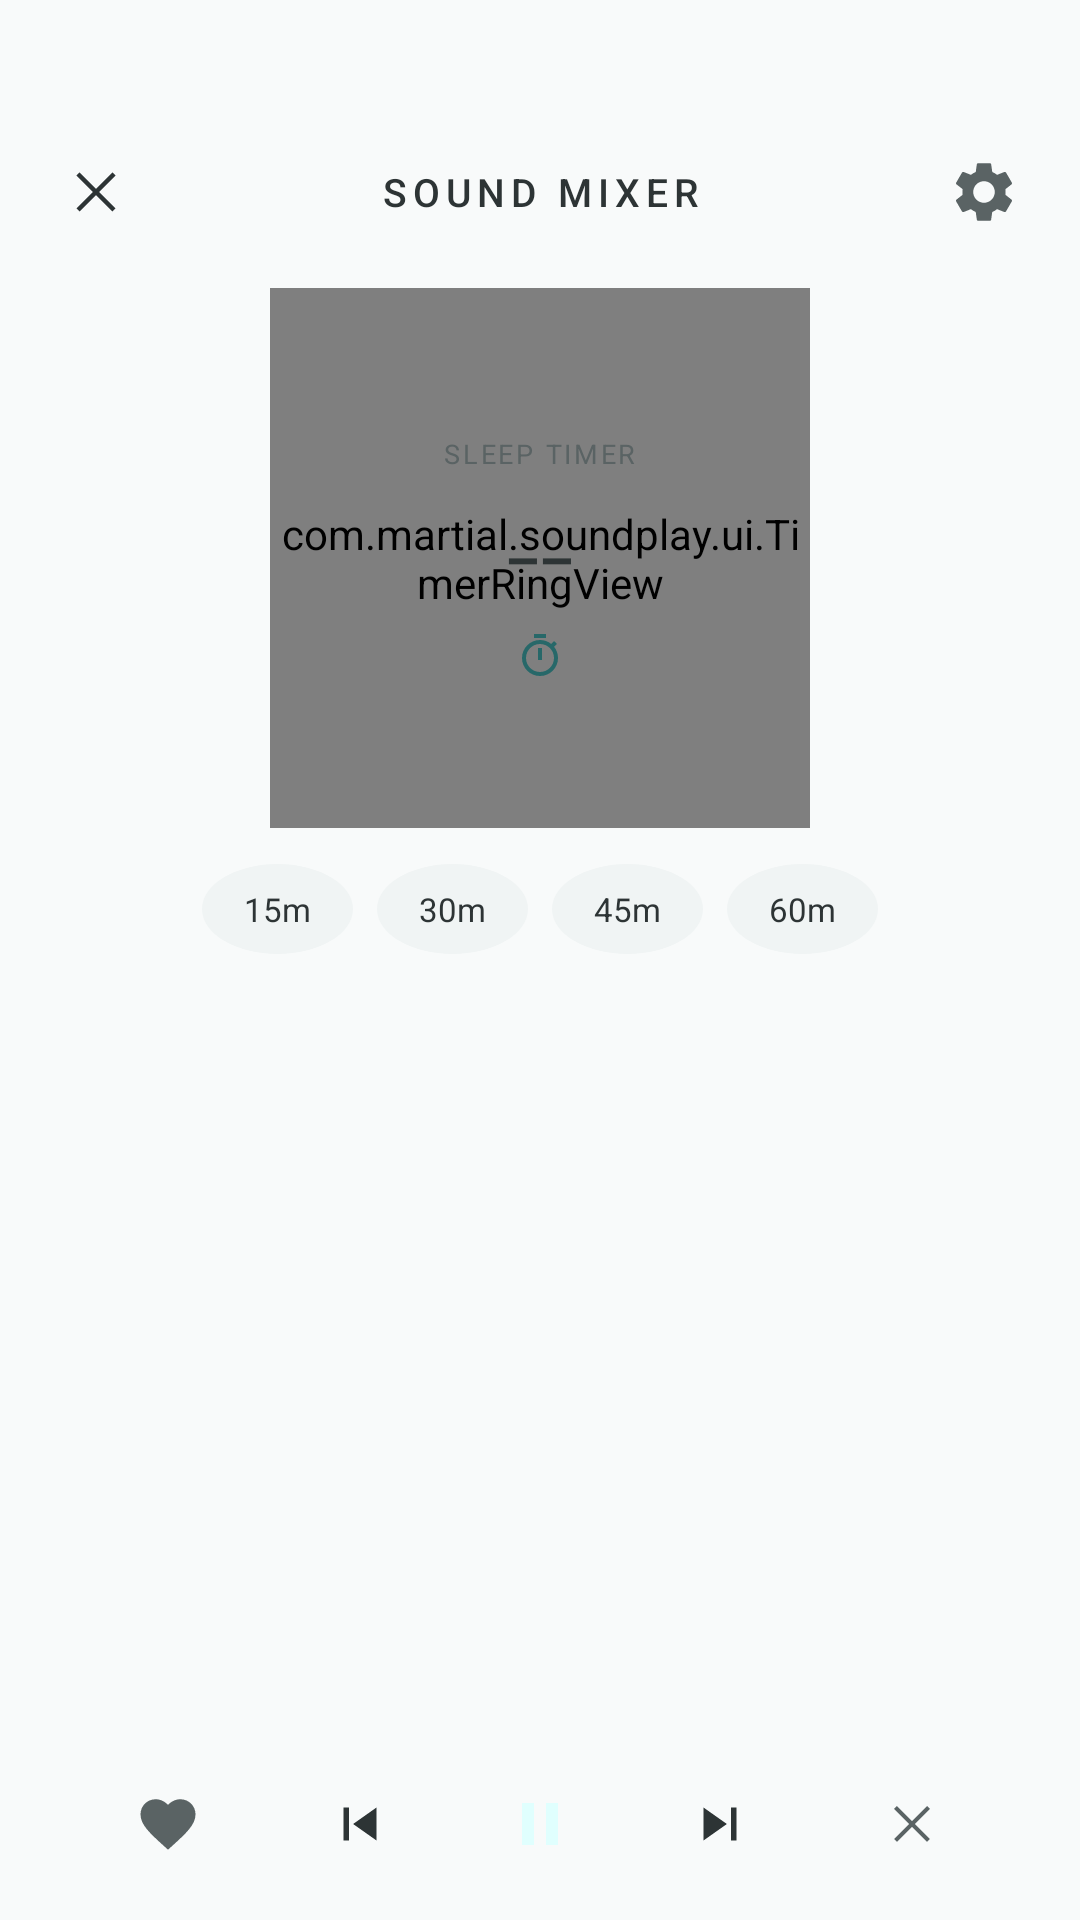

Icon click points for this 1080px x 1920px phone screenshot, format (x=x, y=y):
Close: (x=96, y=192)
Favorite: (x=168, y=1824)
Next: (x=720, y=1824)
Previous: (x=360, y=1824)
Settings: (x=984, y=192)
